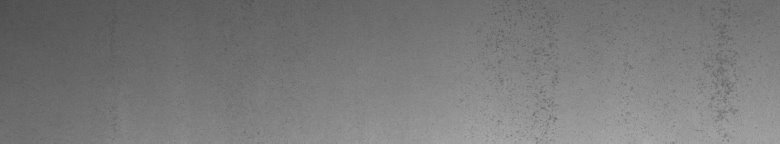ib: (486, 40, 559, 127)
